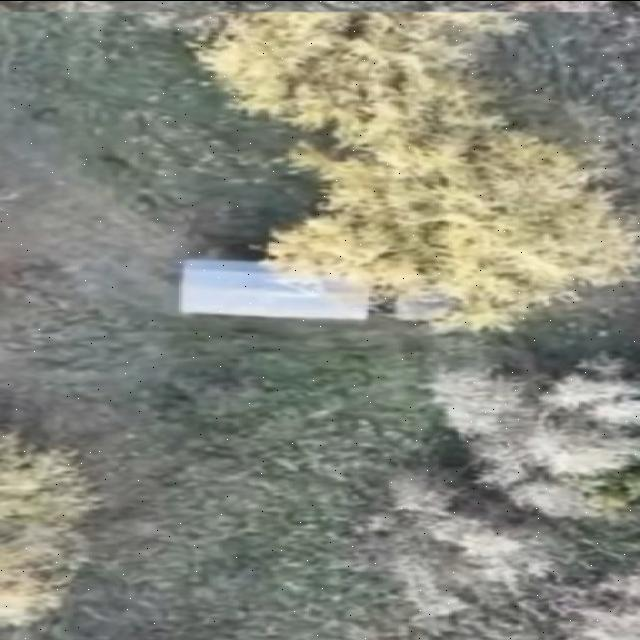TRUCK: (168, 252, 482, 330)
